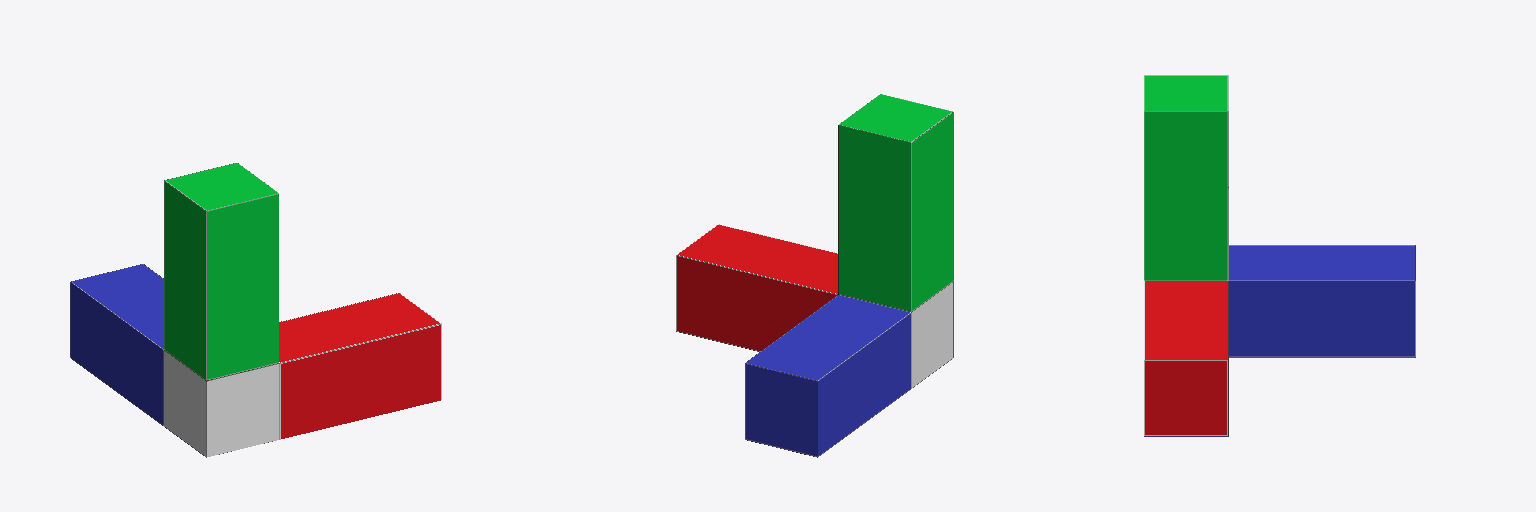
3 renders of one model, left to right at view 1: azimuth 30°, elevation 25°; view 2: azimuth 150°, elevation 25°; view 3: azimuth 270°, elevation 25°, orthographic.
Parts seen in each view (by area): view 1: Cube_Cube.002; view 2: Cube_Cube.002; view 3: Cube_Cube.002.
Boxes of the visible parts, <box> form: Cube_Cube.002: <box>70,163,441,457</box>; Cube_Cube.002: <box>676,94,953,457</box>; Cube_Cube.002: <box>1144,75,1415,436</box>.
Bounding box in the file's own units: 0.7027 × 0.7027 × 0.7027.
Materials: 1 (1 with a texture image).